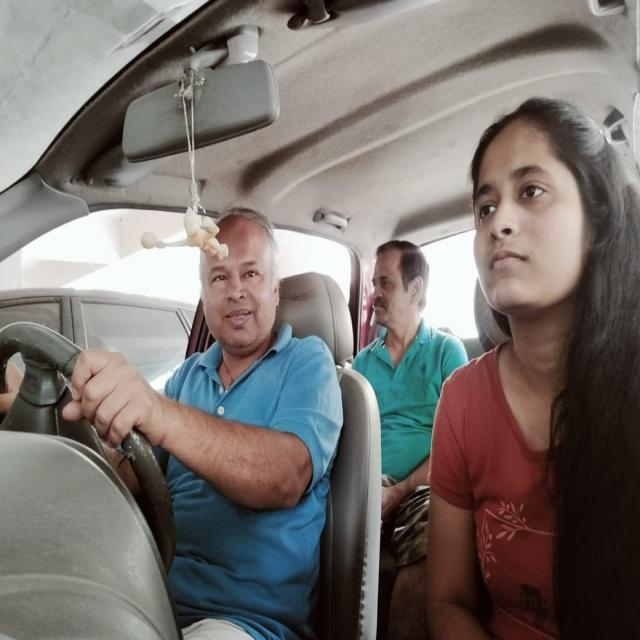person: (466, 96, 612, 326), (195, 204, 281, 354), (366, 234, 432, 339)
